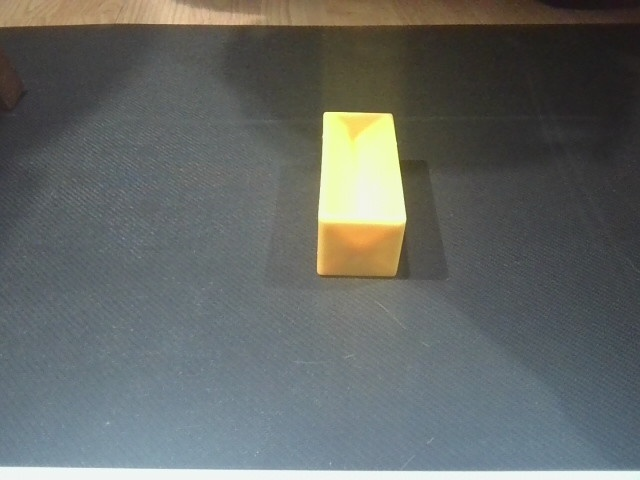YellowSample: (313, 107, 408, 281)
